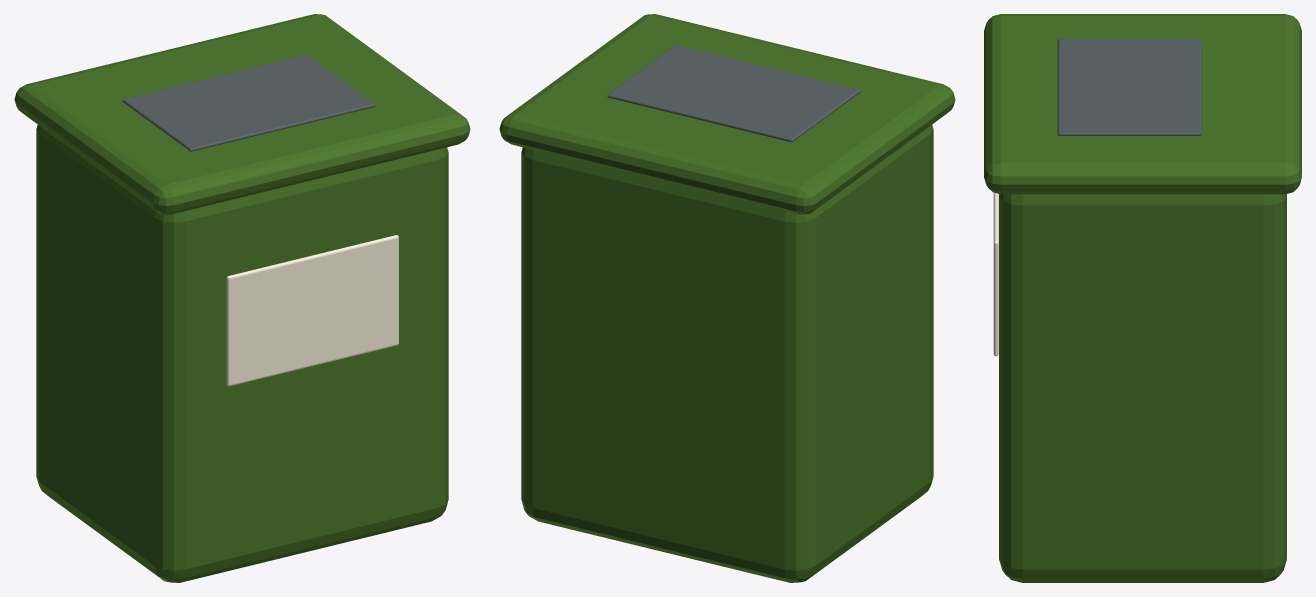
Rendered from CP08-organic.glb.
3 views of the same model, side by side, from view 1: azimuth 30°, elevation 25°; view 2: azimuth 150°, elevation 25°; view 3: azimuth 270°, elevation 25° (orthographic). The views are drawn at different scales.
Parts seen in each view (by area): view 1: CP08-organic; view 2: CP08-organic; view 3: CP08-organic.
Boxes of the visible parts, x1,y1,x2,y2 form: CP08-organic: (14, 14, 470, 582); CP08-organic: (499, 14, 955, 582); CP08-organic: (984, 14, 1301, 582).
Bounding box in the file's own units: 1.14 × 1.42 × 0.95.
